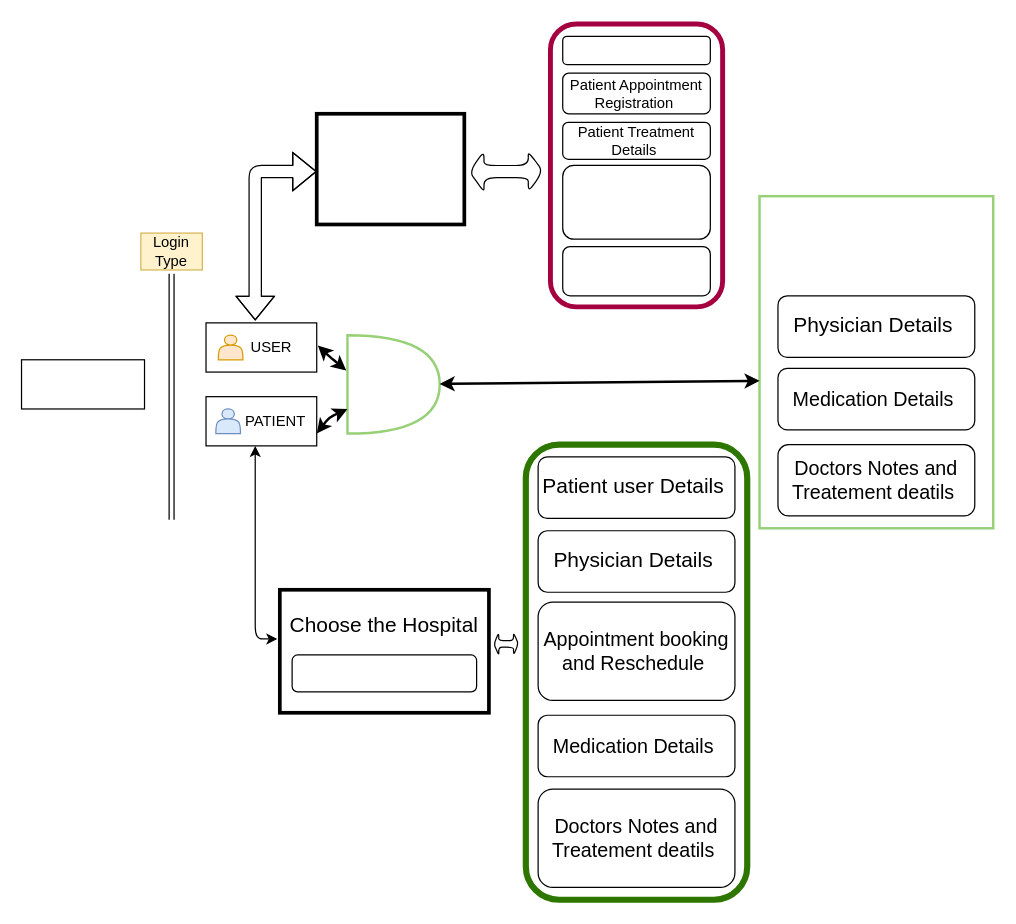
Some shapes in this 1016 by 924 pixel diagram are drawn without their labels. The shapes that lost their labels are listed below. From the top down, each one's centre as x and y in pixels, then its label:
the point at 635,50: Patient Registration
the point at 390,168: Select The Patient
the point at 635,201: Patient Medication Details (Minimal Functionality)
the point at 635,270: Physician Notes
the point at 82,384: Application
the point at 393,383: Pharmacy
the point at 384,673: Existing Hospital
